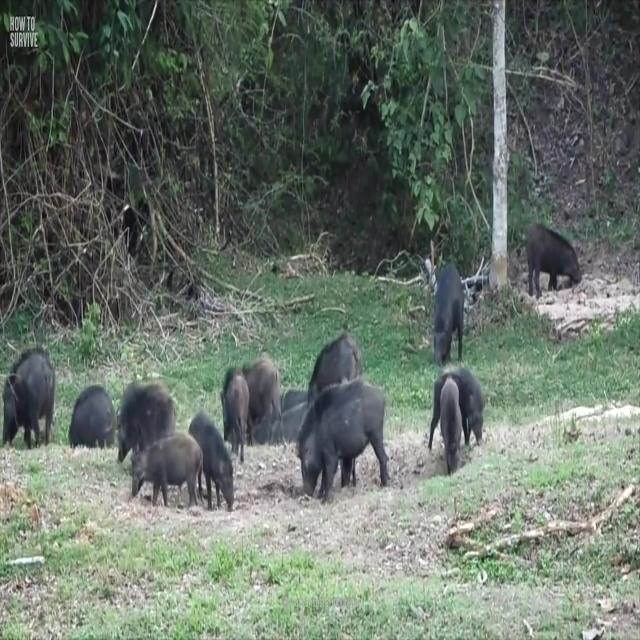pig: (294, 379, 395, 522), (6, 339, 62, 465), (126, 433, 204, 512), (525, 221, 592, 312), (109, 383, 181, 460), (429, 360, 488, 453), (431, 252, 476, 368)
